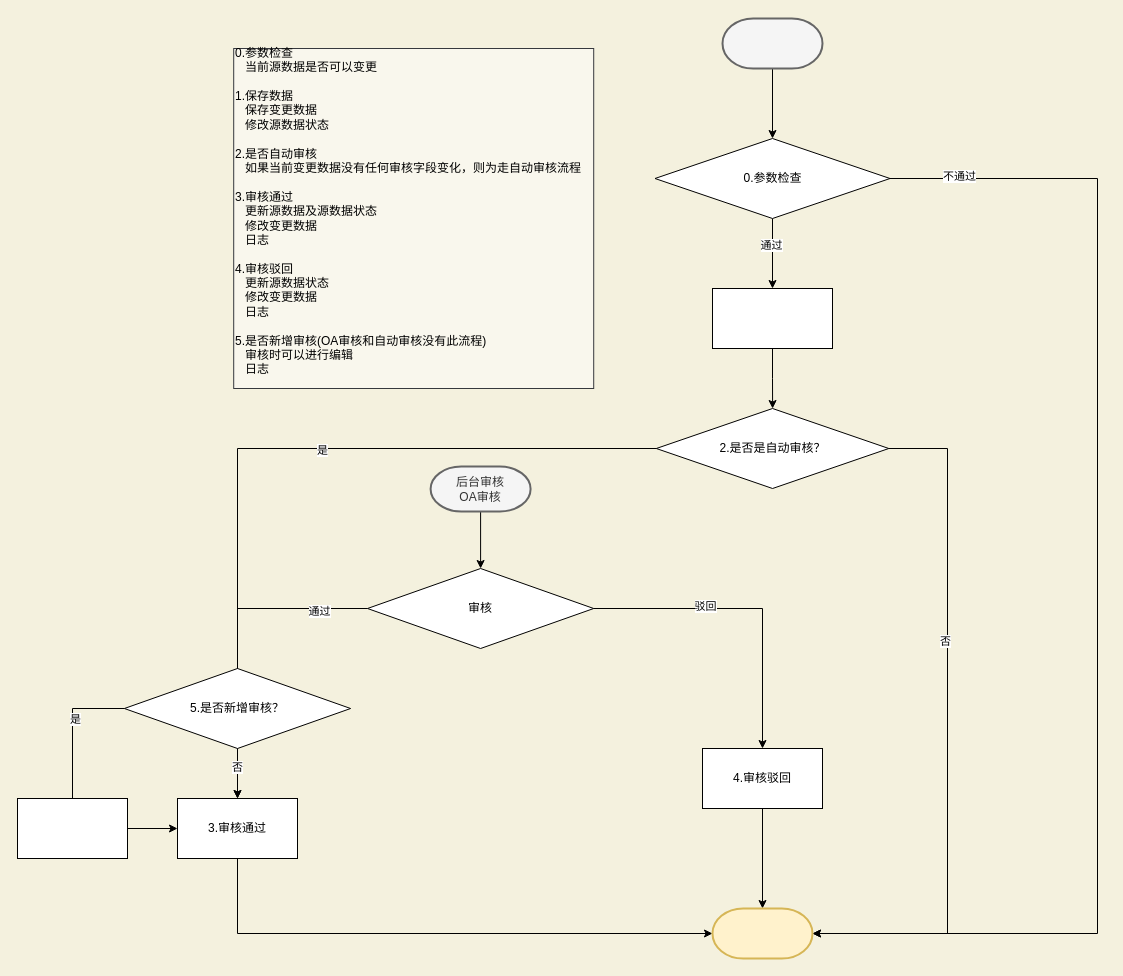
Some shapes in this 1123 by 976 pixel diagram are drawn without their labels. The shapes that lost their labels are listed below. From the top down, each one's centre as x and y in pixels, then its label:
At point (772, 43): "发起变更".
At point (772, 318): "1.保存数据".
At point (72, 828): "修改变更数据".
At point (762, 933): "结束".
